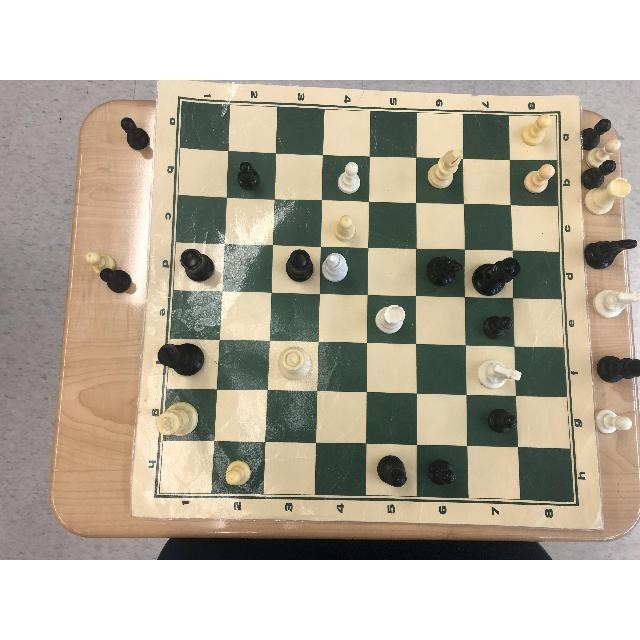black-king: (158, 343, 207, 377)
black-knight: (427, 256, 463, 288)
black-pawn: (377, 453, 407, 486), (483, 314, 513, 339), (430, 459, 458, 485), (487, 409, 517, 432), (238, 161, 260, 189)
black-queen: (470, 255, 519, 295)
black-rook: (179, 248, 215, 282), (285, 248, 314, 280)
white-bishop: (427, 150, 461, 188), (322, 253, 348, 283)
white-king: (156, 402, 198, 436)
white-knight: (477, 358, 521, 388)
white-pawn: (520, 114, 551, 145), (523, 164, 554, 193), (225, 459, 253, 487), (338, 162, 361, 194), (334, 214, 356, 240)
white-queen: (279, 346, 311, 380)
white-rook: (374, 305, 405, 333)
